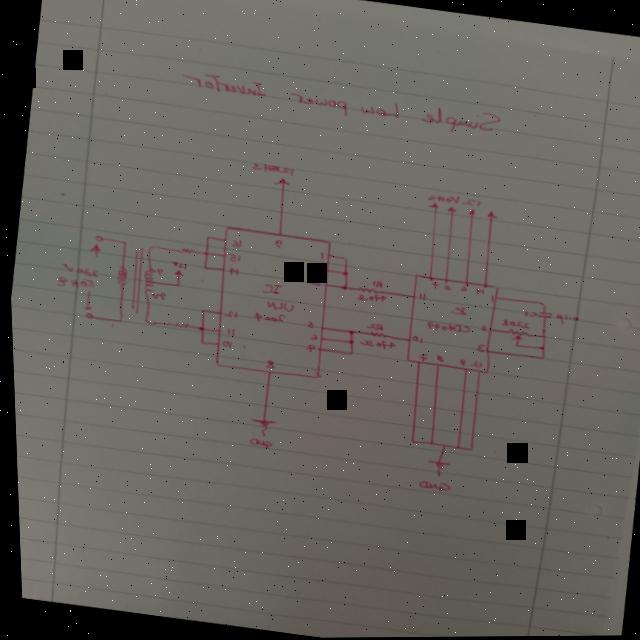capacitor: (534, 311, 551, 321)
ground: (245, 417, 275, 438), (422, 459, 448, 479)
junction: (536, 302, 547, 309), (145, 244, 156, 250), (536, 355, 545, 362), (338, 271, 348, 277), (196, 326, 205, 332), (141, 319, 150, 325), (536, 345, 545, 351), (338, 285, 347, 291), (115, 316, 122, 323), (200, 265, 208, 271), (346, 351, 353, 357), (437, 443, 444, 449), (465, 446, 472, 452), (200, 251, 208, 256), (203, 235, 211, 240), (345, 340, 353, 345), (345, 331, 353, 336), (197, 340, 204, 345), (120, 240, 127, 245), (406, 440, 413, 445), (340, 257, 347, 262), (198, 308, 204, 313), (173, 283, 179, 288), (426, 441, 432, 446), (452, 446, 458, 451), (512, 344, 518, 349), (539, 334, 545, 339)
resistor: (502, 327, 529, 344), (164, 320, 190, 330), (175, 245, 195, 257), (355, 287, 381, 296), (366, 331, 386, 340)
source: (272, 176, 291, 187), (484, 210, 498, 220), (425, 201, 439, 210), (171, 268, 185, 277), (465, 208, 476, 217), (445, 206, 457, 213)
terminal: (92, 235, 105, 243), (82, 313, 93, 320)
text: (176, 66, 505, 142), (426, 192, 482, 209), (422, 320, 470, 336), (249, 161, 296, 177), (54, 274, 95, 292), (58, 263, 100, 278), (250, 310, 285, 327), (414, 478, 449, 494), (355, 337, 394, 351), (552, 313, 580, 329), (263, 300, 294, 314), (353, 291, 386, 304), (498, 319, 530, 331), (258, 281, 282, 296), (245, 437, 271, 450), (447, 305, 468, 318), (362, 321, 383, 332), (169, 260, 187, 270), (149, 291, 166, 301), (220, 309, 237, 319), (224, 253, 240, 263), (225, 266, 239, 277), (148, 267, 163, 277), (409, 335, 423, 345), (521, 310, 536, 319), (229, 239, 242, 249), (369, 280, 382, 290), (472, 287, 485, 297), (466, 360, 481, 368), (414, 354, 427, 363), (219, 340, 231, 349), (303, 344, 315, 353), (308, 278, 320, 287), (273, 239, 283, 249), (224, 327, 235, 336), (303, 320, 314, 329), (263, 360, 274, 369), (477, 324, 488, 333), (432, 355, 444, 363), (415, 293, 425, 302), (474, 344, 484, 353), (307, 333, 316, 342), (457, 285, 467, 293), (312, 266, 323, 273), (440, 284, 451, 291), (456, 359, 465, 367), (317, 252, 324, 262), (428, 282, 437, 289), (486, 294, 493, 303)
transformer: (109, 243, 160, 317)
